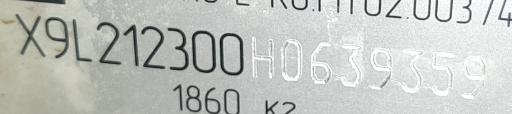letter: (11, 9, 47, 62), (161, 21, 195, 75), (275, 35, 313, 83), (364, 41, 400, 91), (424, 46, 460, 96), (246, 30, 280, 82), (90, 20, 124, 69), (306, 37, 338, 87), (189, 26, 221, 76), (460, 53, 494, 100), (335, 39, 367, 87), (216, 28, 248, 76), (396, 42, 426, 93), (42, 14, 72, 61), (139, 24, 169, 71), (68, 17, 96, 66), (119, 21, 145, 71)
